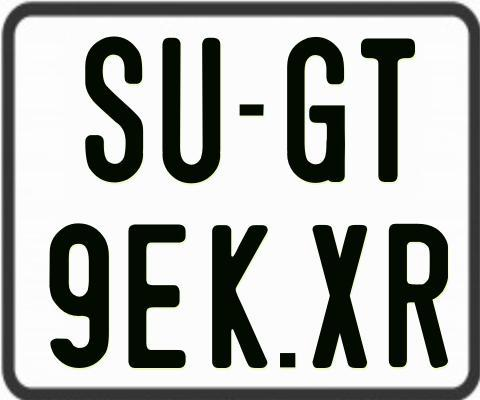9: (49, 220, 113, 369)
E: (128, 223, 190, 370)
G: (285, 35, 344, 186)
K: (210, 223, 270, 367)
R: (388, 224, 452, 373)
S: (84, 34, 146, 183)
T: (360, 35, 415, 180)
U: (162, 37, 220, 187)
X: (310, 223, 368, 366)
